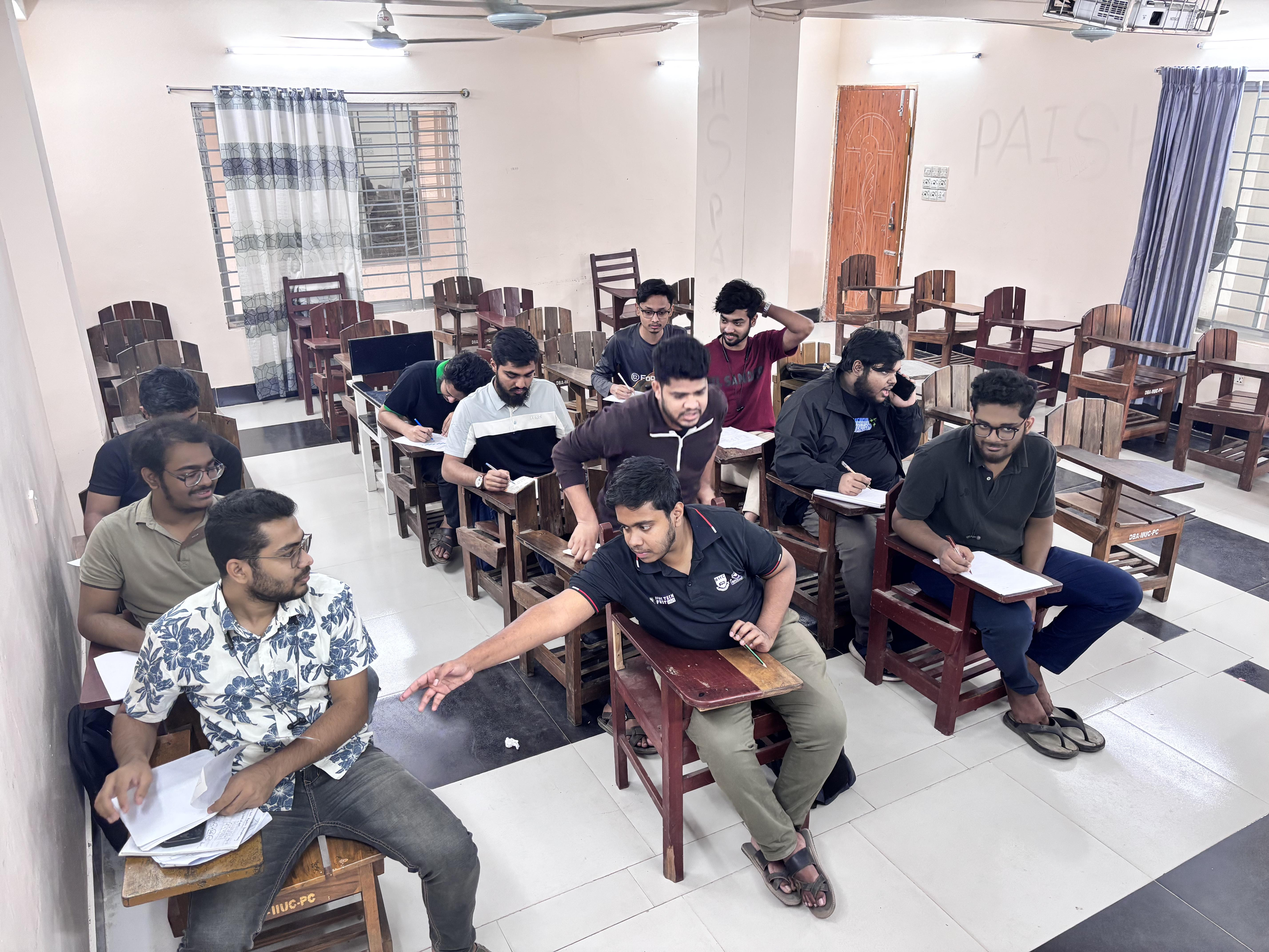exchanging_sheets: (369, 478, 837, 835), (106, 518, 443, 911)
no_cheating: (443, 327, 568, 516), (359, 338, 475, 458), (597, 267, 696, 402)
suspicious_moving: (888, 350, 1123, 675), (541, 296, 730, 556), (68, 426, 238, 640), (693, 268, 807, 431)
using_phone: (769, 327, 932, 507)
